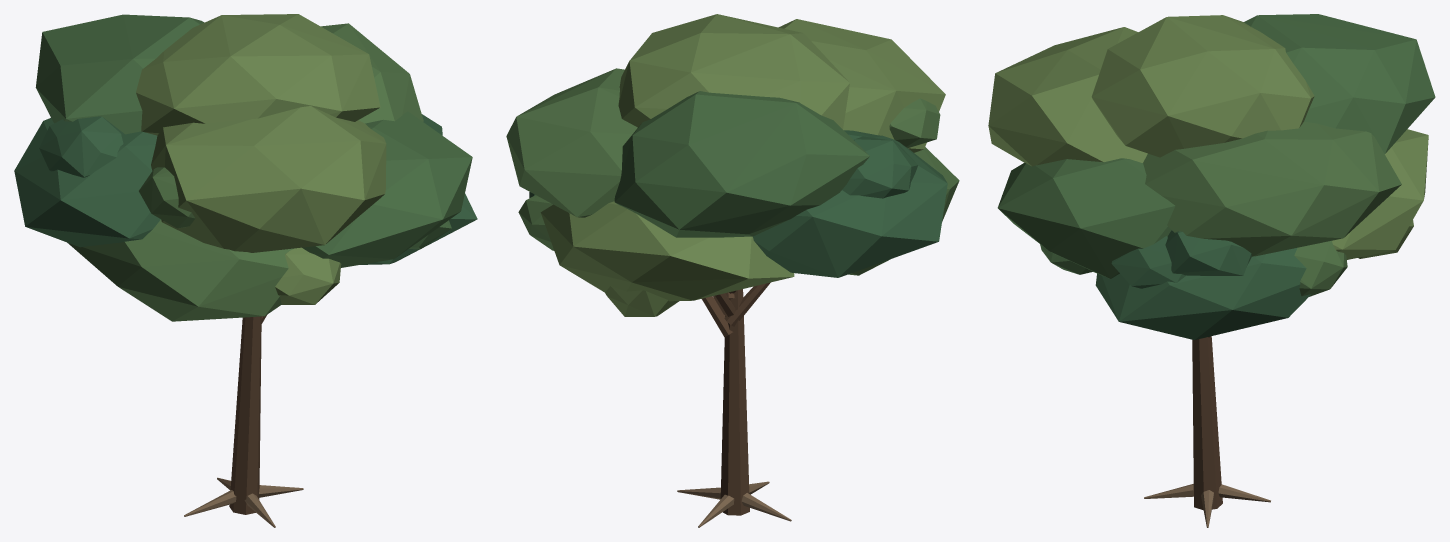
Rendered from tropic.glb.
3 views of the same model, side by side, from view 1: azimuth 30°, elevation 25°; view 2: azimuth 150°, elevation 25°; view 3: azimuth 270°, elevation 25° (orthographic).
Visible parts, largest first — view 1: tropic; view 2: tropic; view 3: tropic.
Boxes of the visible parts, x1,y1,x2,y2 form: tropic: (14, 14, 477, 527); tropic: (506, 14, 959, 527); tropic: (988, 14, 1435, 527).
Size of the model in its own units: 1.47 by 1.63 by 1.41.
